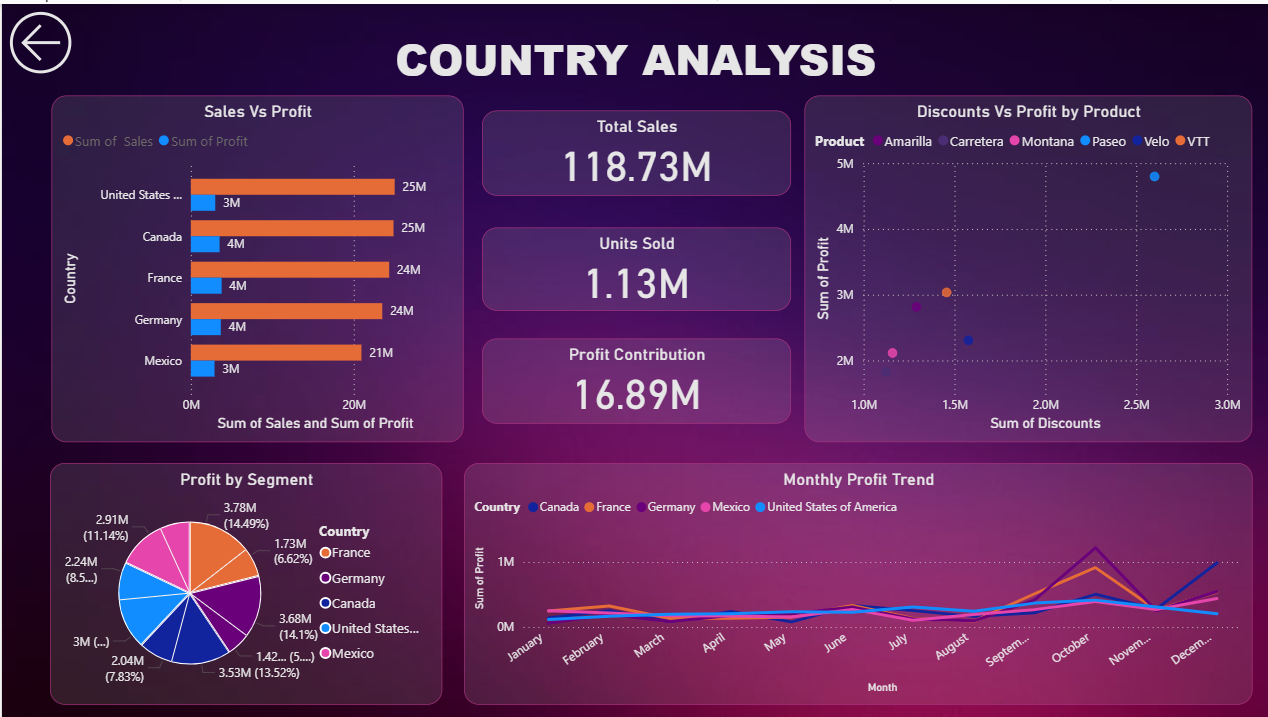

Layout of this report page (visuals, bound fields, positions):
{"tool":"powerbi","page":{"name":"Country Analysis","canvas":[1280,720],"ordinal":3},"visuals":[{"type":"actionButton","box":[0,0,100,63.3],"z":0},{"type":"lineChart","title":"Monthly Profit Trend","fields":{"Category":["DateDimension.Date.Variation.Date Hierarchy.Month"],"Y":["Sum(Sheet1.Profit)"],"Series":["Sheet1.Country"]},"box":[423.3,463.3,856.7,256.7],"z":1000},{"type":"hundredPercentStackedColumnChart","title":"Profit by Year and Country","fields":{"Category":["DateDimension.Date.Variation.Date Hierarchy.Year"],"Y":["Sum(Sheet1.Profit)"],"Series":["Sheet1.Country"]},"box":[416,128,368,336],"z":2000},{"type":"card","title":"Profit Contribution","fields":{"Values":["Sum(Sheet1.Profit)"]},"box":[851.7,0,428.3,126.7],"z":3000},{"type":"scatterChart","title":"Discounts Vs Profit by Product","fields":{"X":["Sum(Sheet1.Discounts)"],"Y":["Sum(Sheet1.Profit)"],"Series":["Sheet1.Product"]},"box":[783.3,126.7,496.7,336.7],"z":4000},{"type":"card","title":"Unit Sold","fields":{"Values":["Sum(Sheet1.Units Sold)"]},"box":[423.3,0,428.3,126.7],"z":5000},{"type":"pieChart","title":"Profit by Segment","fields":{"Category":["Sheet1.Country","Sheet1.Segment"],"Y":["Sum(Sheet1.Profit)"]},"box":[0,463.3,423.3,256.7],"z":6000},{"type":"clusteredBarChart","title":"Sales Vs Profit","fields":{"Category":["Sheet1.Country"],"Y":["Sum(Sheet1. Sales)","Sum(Sheet1.Profit)"]},"box":[0,126.7,423.3,336.7],"z":7000},{"type":"card","title":"Total Sales","fields":{"Values":["Sheet1.Total Sales"]},"box":[100,0,323.3,126.7],"z":8000}]}

Visuals, with their boxes in screenshot pixels (x1, y1, x2, y2), scaled from the page's 1280x720 canvas onto the 1268x717 screenshot:
actionButton: (0, 0, 99, 63)
"Monthly Profit Trend" lineChart: (419, 461, 1267, 716)
"Profit by Year and Country" hundredPercentStackedColumnChart: (412, 127, 777, 462)
"Profit Contribution" card: (844, 0, 1267, 126)
"Discounts Vs Profit by Product" scatterChart: (776, 126, 1267, 461)
"Unit Sold" card: (419, 0, 844, 126)
"Profit by Segment" pieChart: (0, 461, 419, 716)
"Sales Vs Profit" clusteredBarChart: (0, 126, 419, 461)
"Total Sales" card: (99, 0, 419, 126)
